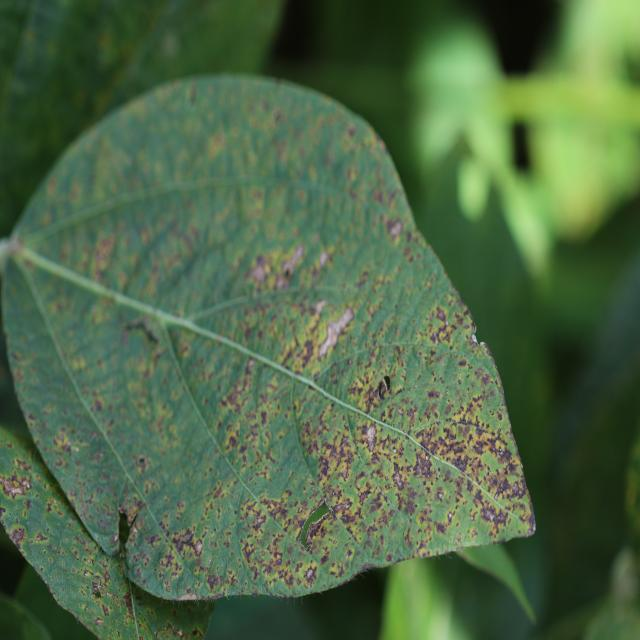Bacterial_Blight: (234, 482, 333, 576), (432, 442, 525, 520), (176, 289, 318, 325), (300, 412, 363, 485), (312, 342, 389, 390), (148, 506, 211, 563), (483, 342, 514, 415), (222, 383, 252, 456), (125, 547, 143, 640), (415, 420, 439, 489), (124, 316, 160, 347), (278, 244, 305, 283), (365, 423, 377, 450), (126, 510, 139, 534), (11, 527, 26, 547), (351, 569, 367, 587), (91, 579, 104, 598), (318, 250, 330, 269), (332, 501, 351, 512), (61, 439, 73, 454), (10, 485, 25, 496), (246, 358, 257, 373), (472, 333, 483, 346), (191, 594, 201, 608), (83, 567, 93, 577), (94, 616, 105, 625), (24, 499, 32, 511), (113, 533, 119, 543), (177, 629, 183, 637), (520, 461, 524, 471), (393, 447, 398, 454), (51, 593, 54, 602)
Soybean: (0, 73, 538, 640)
